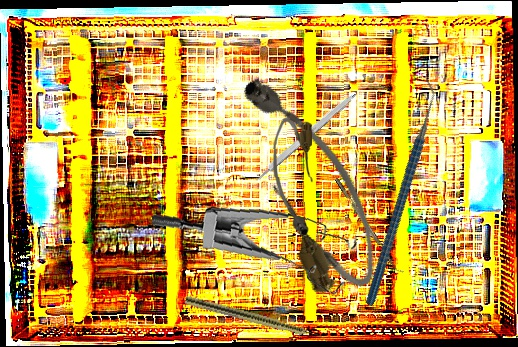Cannula: (227, 59, 393, 305), (271, 116, 316, 238)
Chopper: (296, 75, 501, 307), (334, 174, 405, 277)
Handpiece: (184, 295, 329, 344)
Scalpel Handle: (252, 89, 358, 184)
Speculum: (151, 191, 362, 314)
